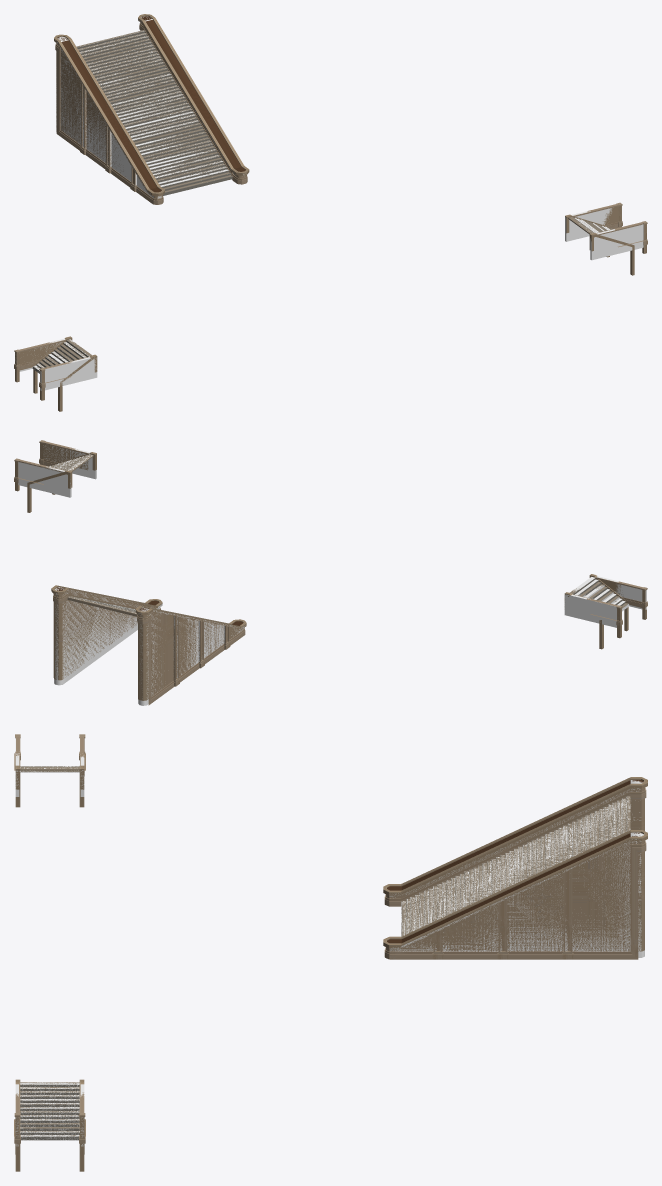
Rendered from objects_un_c01squarestep01.gltf.
3 renders of one model, top to bottom at view 1: azimuth 30°, elevation 25°; view 2: azimuth 150°, elevation 25°; view 3: azimuth 270°, elevation 25°, orthographic. The views are drawn at different scales.
Visible parts, largest first — view 1: um_objects_un_c01squarestep01_model_lod0Shape:objects_un_c01 (×3), nomerge_wall_mesh_lod0_shape:objects_un_c01squarestep01_01; view 2: um_objects_un_c01squarestep01_model_lod0Shape:objects_un_c01 (×3), nomerge_wall_mesh_lod0_shape:objects_un_c01squarestep01_01; view 3: um_objects_un_c01squarestep01_model_lod0Shape:objects_un_c01 (×3), nomerge_wall_mesh_lod0_shape:objects_un_c01squarestep01_01.
Boxes of the visible parts, x1,y1,x2,y2 form: um_objects_un_c01squarestep01_model_lod0Shape:objects_un_c01 (×3): (14,14,647,411); nomerge_wall_mesh_lod0_shape:objects_un_c01squarestep01_01: (19,22,618,364); um_objects_un_c01squarestep01_model_lod0Shape:objects_un_c01 (×3): (14,440,647,705); nomerge_wall_mesh_lod0_shape:objects_un_c01squarestep01_01: (43,443,623,700); um_objects_un_c01squarestep01_model_lod0Shape:objects_un_c01 (×3): (14,734,647,1171); nomerge_wall_mesh_lod0_shape:objects_un_c01squarestep01_01: (386,787,644,951).
Size of what is drawn, in the model's own units: 94.04 by 20.93 by 66.09.
Materials: 4 (3 with a texture image).
